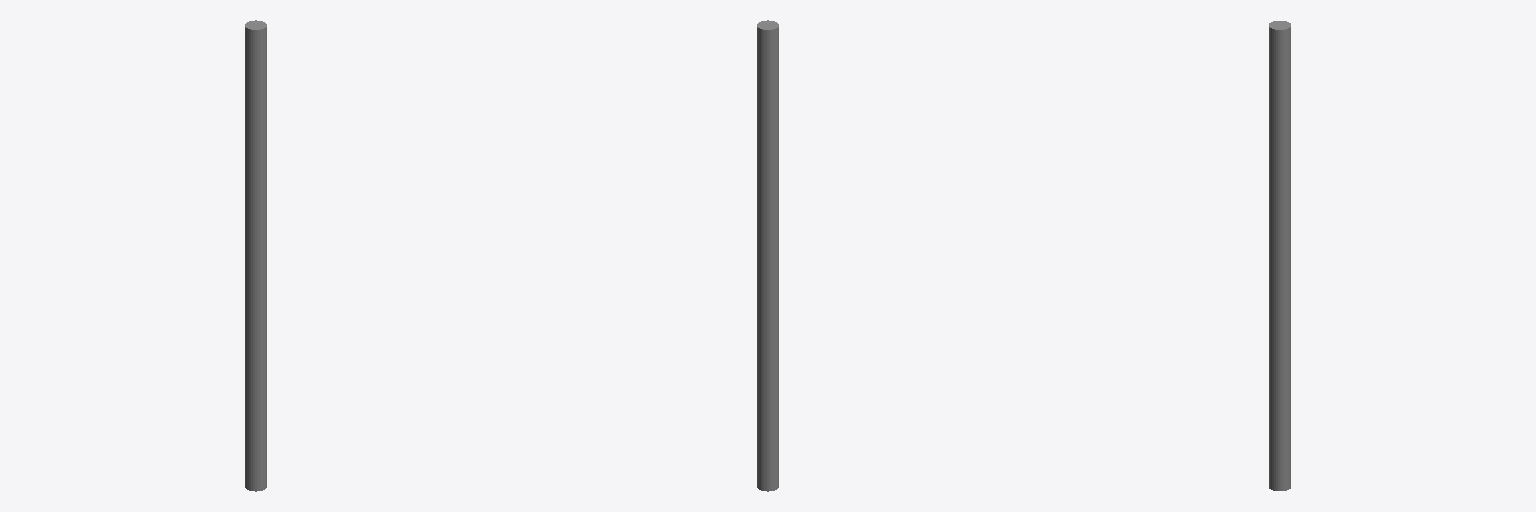
robot.urdf — camera_stand:
<?xml version="1.0"?>
<robot name="camera_stand" xmlns:xacro="http://wiki.ros.org/xacro">

  <!-- World link -->
  <link name="world"/>

  <!-- Material -->
  <material name="grey">
    <color rgba="0.6 0.6 0.6 1.0"/>
  </material>

  <!-- Stand link -->
  <link name="stand_link">
    <visual>
      <geometry>
        <cylinder radius="0.02" length="0.9"/> <!-- 2 cm wide, 1 m tall stand -->
      </geometry>
      <origin xyz="0 0 0.5" rpy="0 0 0"/> <!-- Centered at base, cylinder grows upward -->
      <material name="grey"/>
    </visual>
    <collision>
      <geometry>
        <cylinder radius="0.02" length="1.0"/>
      </geometry>
      <origin xyz="0 0 0.5" rpy="0 0 0"/>
    </collision>
    <inertial>
      <mass value="1.0"/>
      <origin xyz="0 0 0.5" rpy="0 0 0"/>
      <inertia ixx="0.001" ixy="0.0" ixz="0.0"
               iyy="0.001" iyz="0.0"
               izz="0.0005"/>
    </inertial>
  </link>

  <!-- Camera link -->
  <link name="camera_link">
    <visual>
      <geometry>
        <mesh filename="/home/divyam/four_ur_ws/install/ur_four/share/ur_four/meshes/camera.stl"/>
      </geometry>
      <material name="black">
        <color rgba="0.0 0.0 0.0 1.0"/>
      </material>
      <origin xyz="0 0 0" rpy="0 0 0"/>
    </visual>
    <collision>
      <geometry>
        <mesh filename="/home/divyam/four_ur_ws/install/ur_four/share/ur_four/meshes/camera.stl"/>
      </geometry>
      <origin xyz="0 0 0" rpy="0 0 0"/>
    </collision>
    <inertial>
      <mass value="0.1"/>
      <origin xyz="0 0 0" rpy="0 0 0"/>
      <inertia ixx="0.0001" ixy="0.0" ixz="0.0"
               iyy="0.0001" iyz="0.0"
               izz="0.0001"/>
    </inertial>
  </link>

  <!-- Joint: world to stand -->
  <joint name="world_to_stand" type="fixed">
    <parent link="world"/>
    <child link="stand_link"/>
    <origin xyz="1.4 0.0243 0" rpy="0 0 0"/> <!-- Placed at (10, 0, 0) in world -->
  </joint>

  <!-- Joint: stand to camera -->
  <joint name="stand_to_camera" type="fixed">
    <parent link="stand_link"/>
    <child link="camera_link"/>
    <origin xyz="0 0 0.975" rpy="0 0 -1.57"/> <!-- Camera sits 1m above stand base -->
  </joint>

</robot>

--- What the picture shows (computed from the rendered views, not written in the file) ---
The picture shows the robot from 3 angles, left to right: view 1: azimuth 30°, elevation 25°; view 2: azimuth 150°, elevation 25°; view 3: azimuth 270°, elevation 25°; orthographic projection.
Model camera_stand with 3 links and 2 joints (2 fixed), rooted at world, posed all joints at 0.
Links seen in each view (by area): view 1: stand_link; view 2: stand_link; view 3: stand_link.
Link boxes in pixels (left/top/right/bottom): stand_link: left=245, top=20, right=266, bottom=491; stand_link: left=757, top=20, right=778, bottom=491; stand_link: left=1269, top=21, right=1290, bottom=490.
Size in the robot's own frame: 0.04 by 0.04 by 0.9 metres.
Geometry: only primitive shapes (box / cylinder / sphere) drawn; not drawn: 1 mesh visual (reference in a form the renderer does not follow).
